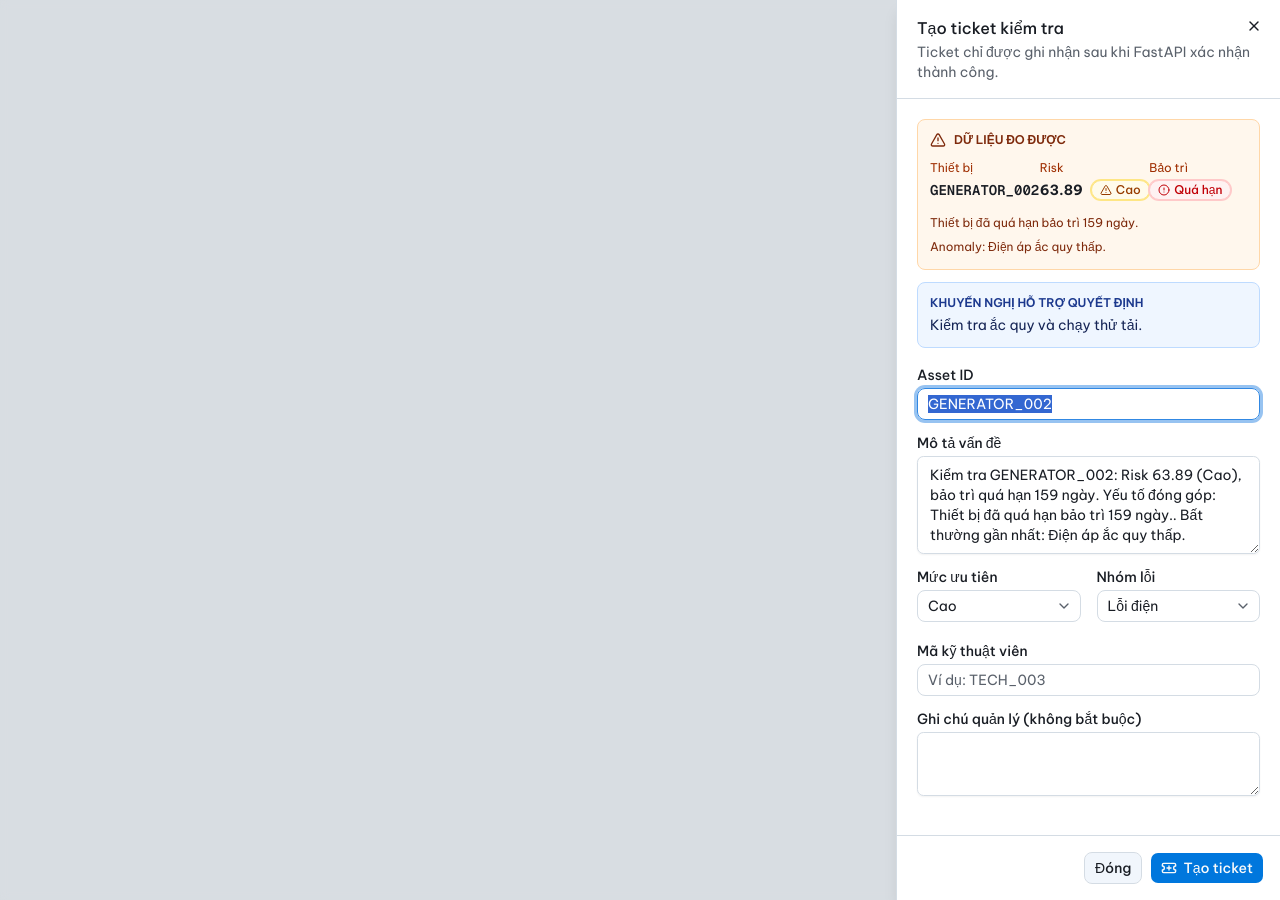
live maintenance workflow forms › prefills asset context, validates locally, prevents double submit, and confirms the ticket ID
This screenshot has width=1280, height=900.
expect the field labelled "Asset ID" holds "GENERATOR_002": met, box top-left (917, 388), bottom-right (1260, 420)
expect the text "Anomaly: Điện áp ắc quy thấp." is shown: met, box top-left (930, 239), bottom-right (1106, 254)
Click the button "Tạo ticket" at x=1207, y=868, box top-left (1150, 852), bottom-right (1264, 884)
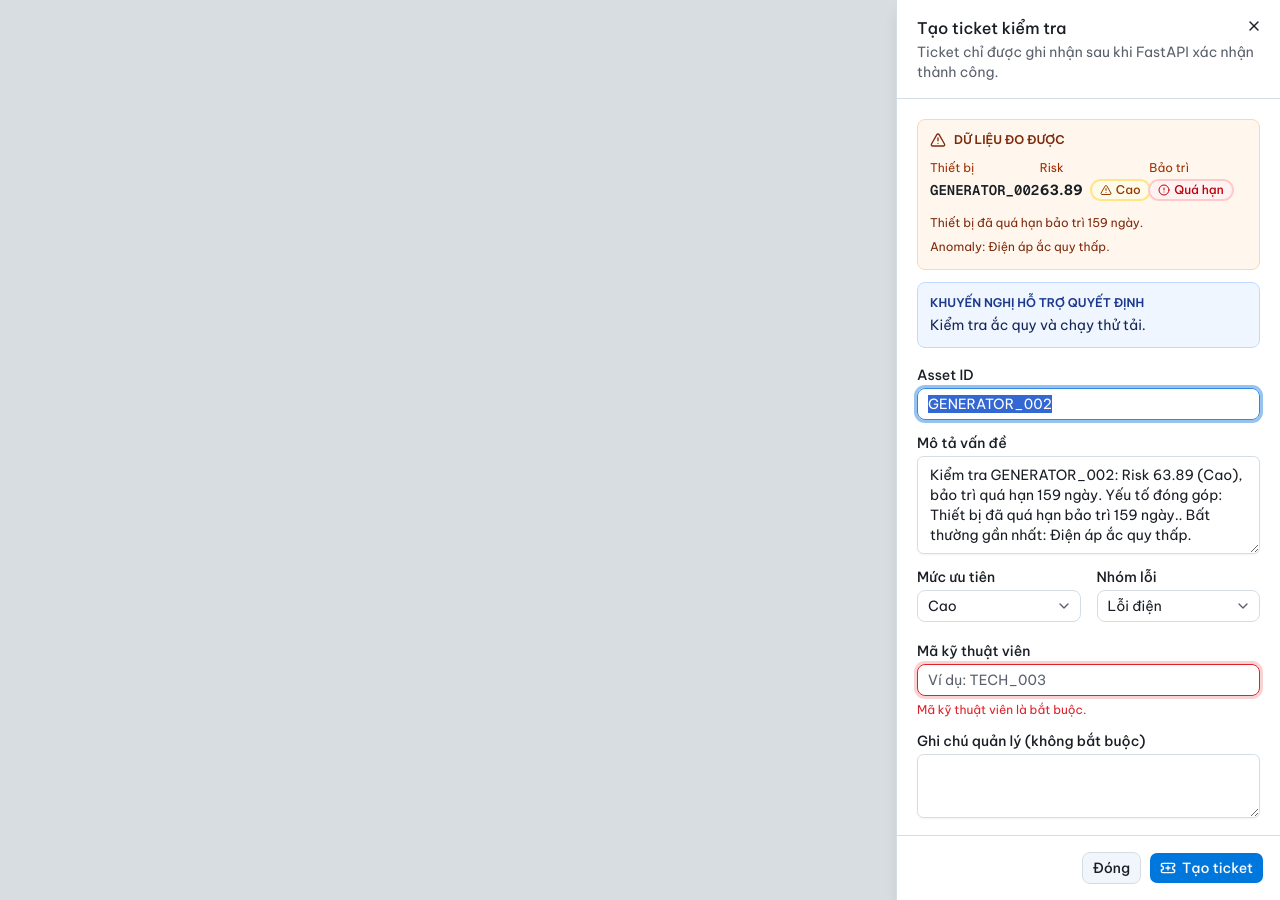
expect the text "Mã kỹ thuật viên là bắt buộc." is shown: met, box top-left (917, 702), bottom-right (1086, 717)
Type "TECH_003" into the field labelled "Mã kỹ thuật viên" at x=1088, y=680, box top-left (917, 664), bottom-right (1260, 696)
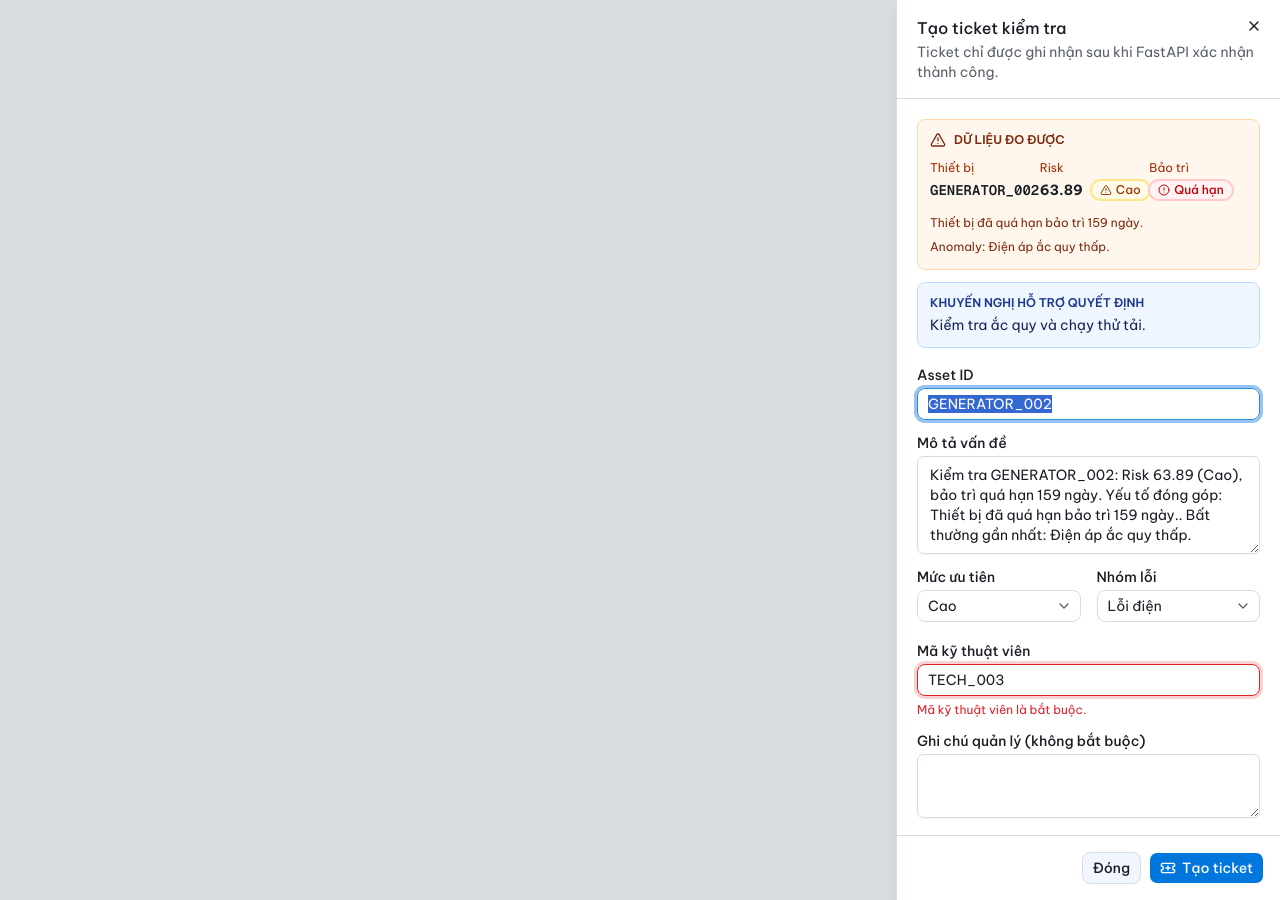
Click the button "Tạo ticket" at x=1206, y=868, box top-left (1149, 852), bottom-right (1264, 884)
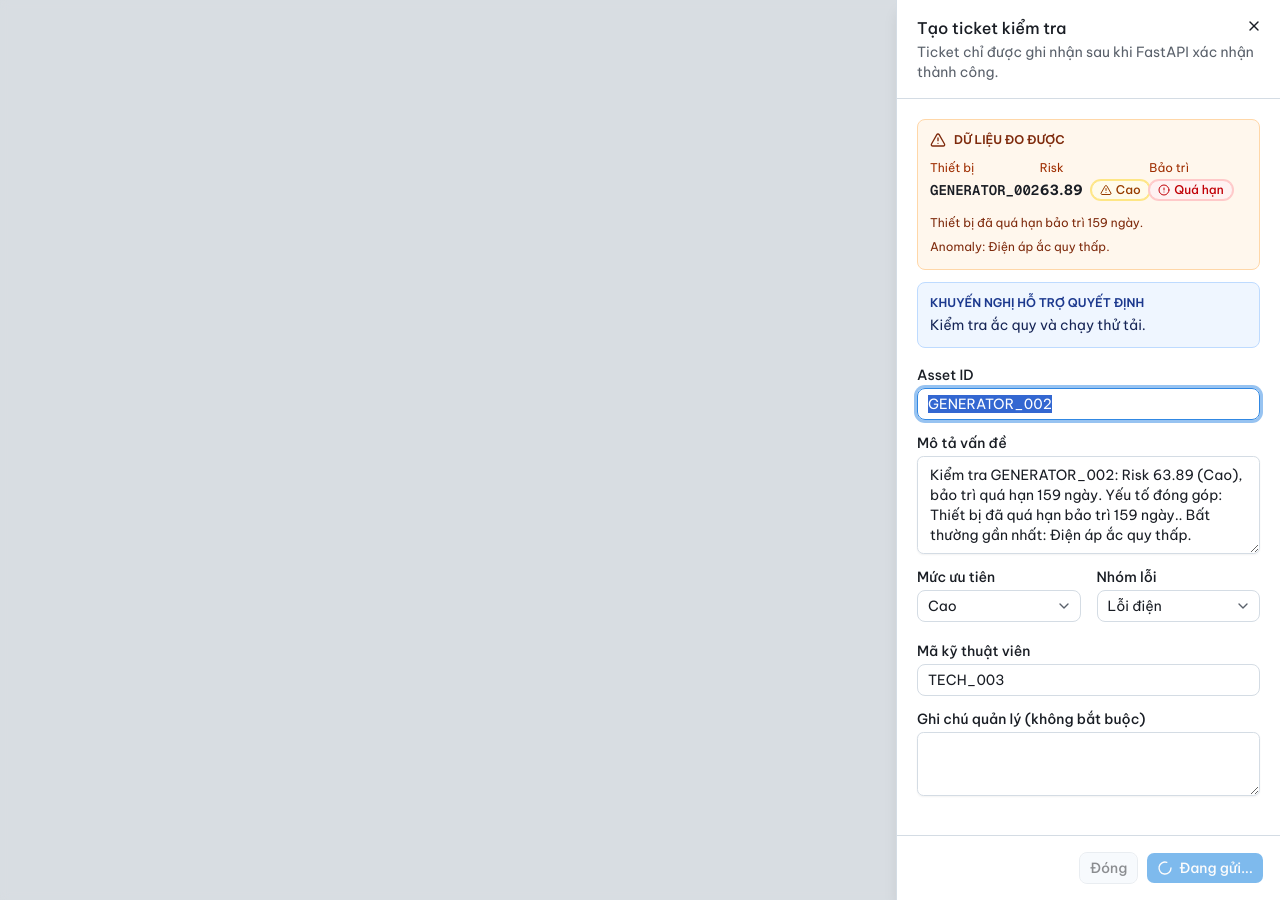
Click the button named "Tạo ticket" at x=1205, y=868, box top-left (1146, 852), bottom-right (1264, 884)
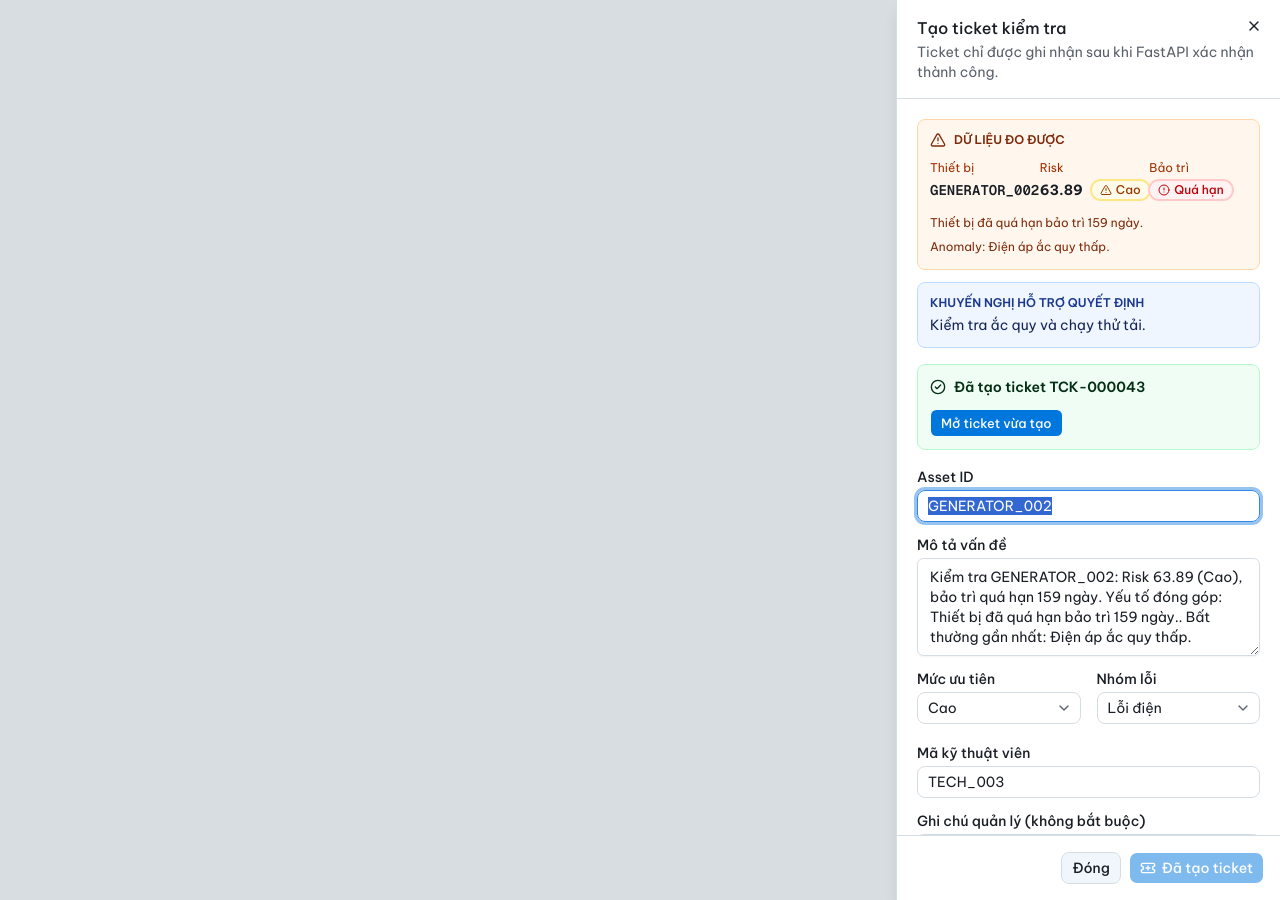
expect the button named "Đang gửi..." is disabled: met, box top-left (1129, 852), bottom-right (1264, 884)
expect the text "Đã tạo ticket TCK-000043" is shown: met, box top-left (930, 378), bottom-right (1145, 396)
